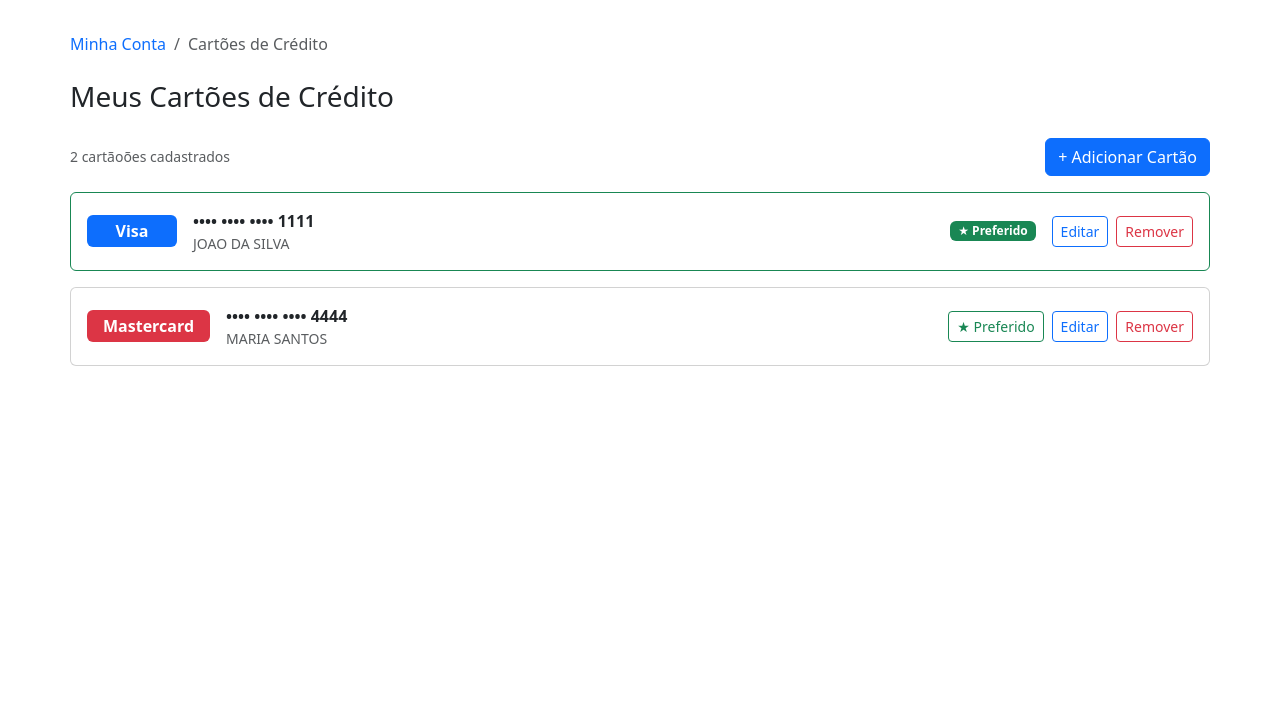
Test: CreditCardsPage - RF0027: Cadastro de cartões de crédito › should require card number (RN0024)
Click the button with test id "credit-card-add-btn" at [1128, 157], box [1045,138,1210,176]
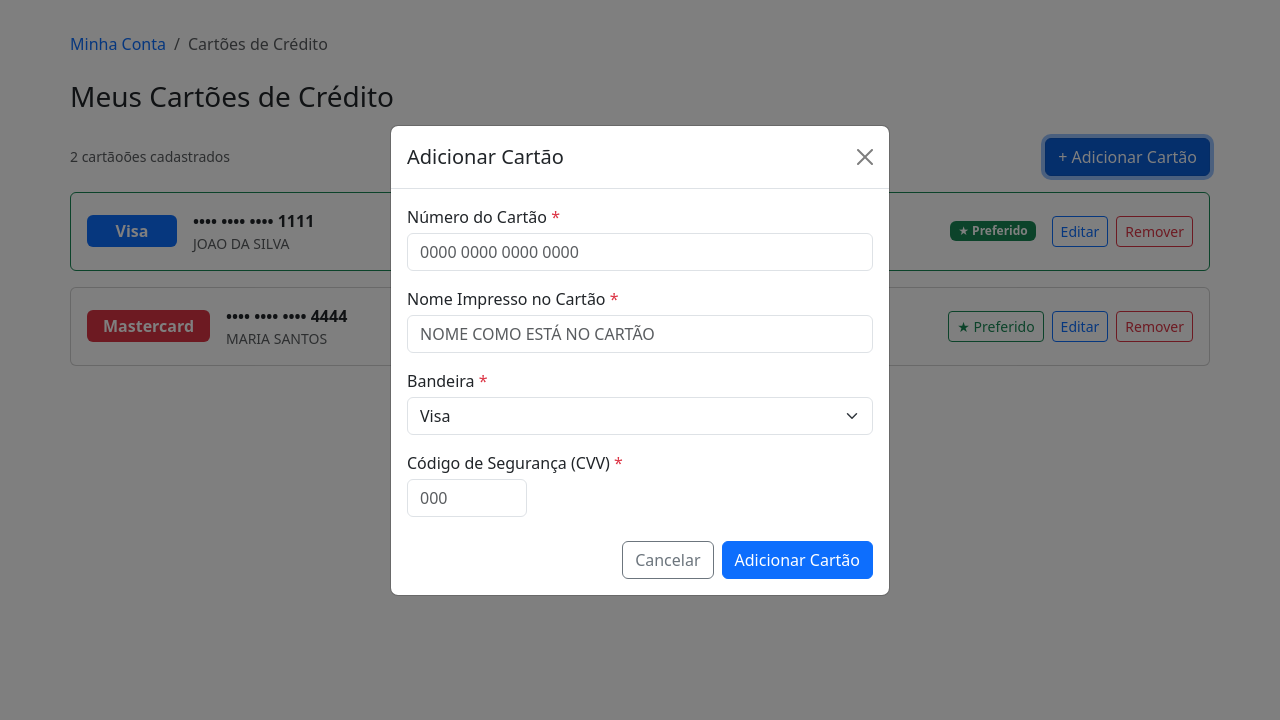
Check: the dialog with test id "credit-card-form-modal" is shown
Note: Leave card number empty
Type "JOAO SILVA" into the field with test id "credit-card-nome" at [640, 334], box [407,314,873,352]
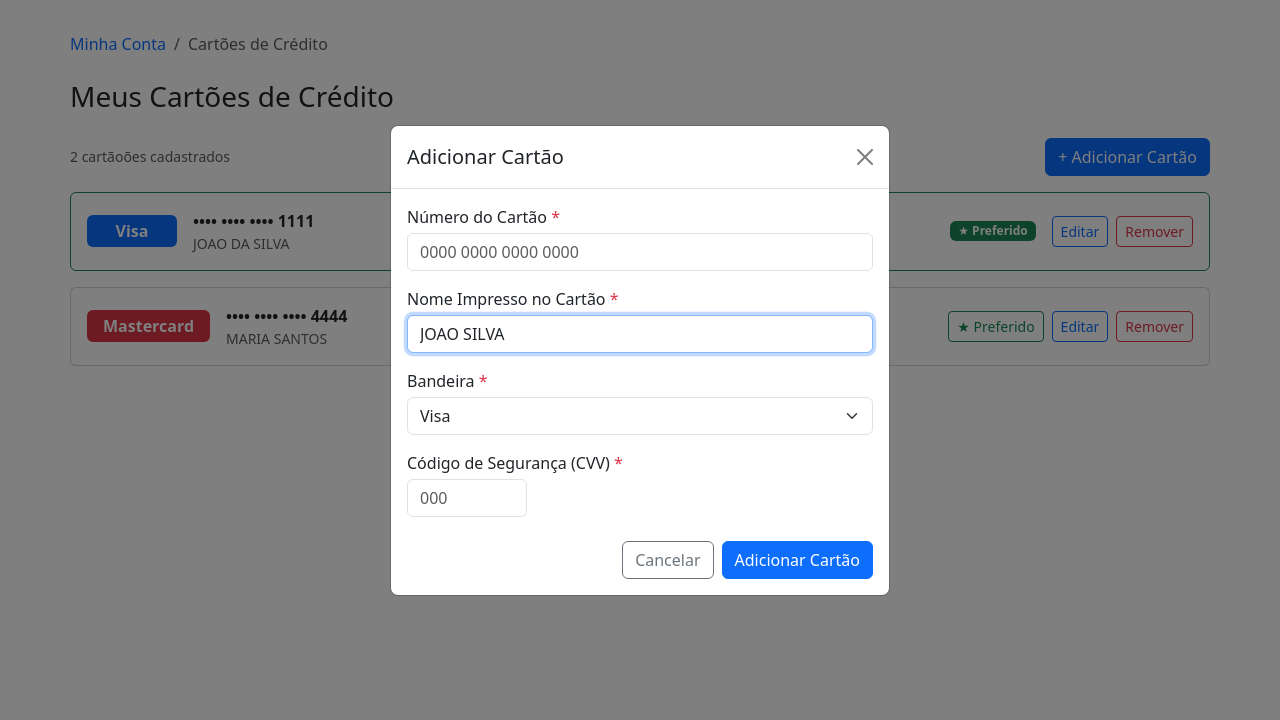
Type "123" into the field with test id "credit-card-cvv" at [467, 498], box [407,478,527,516]
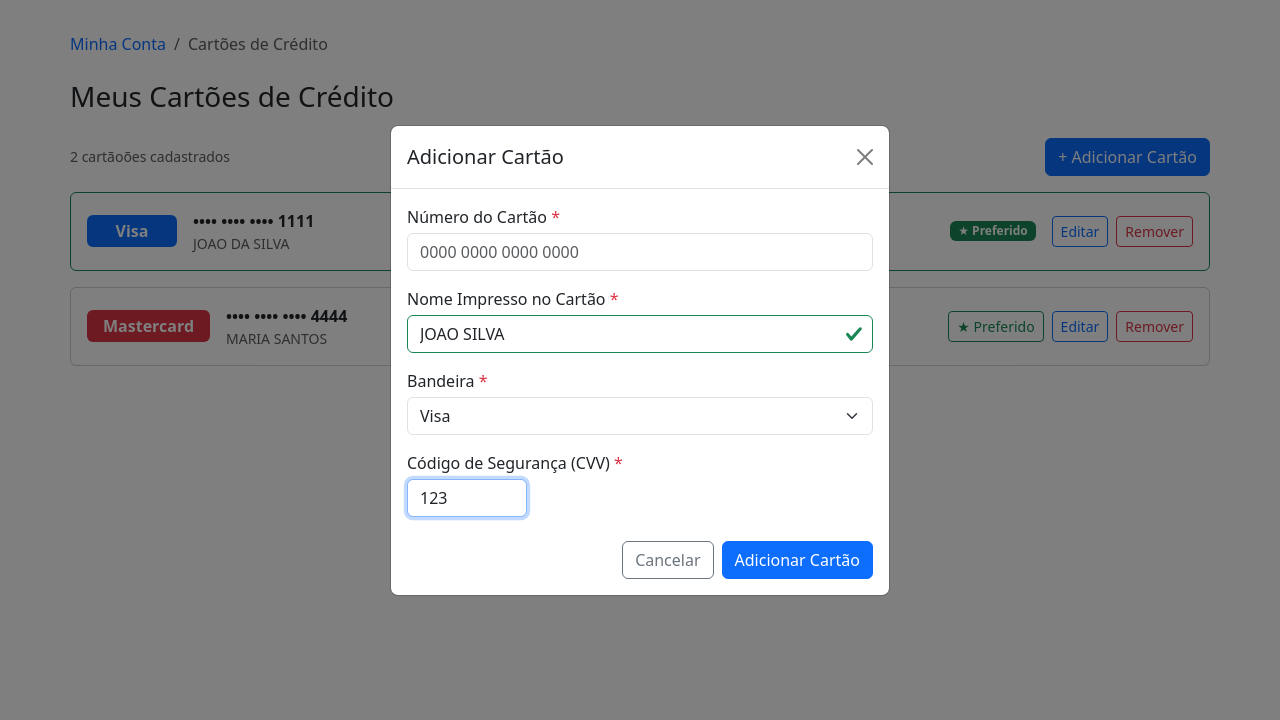
Click the button with test id "credit-card-form-submit" at [797, 560], box [722,540,873,578]
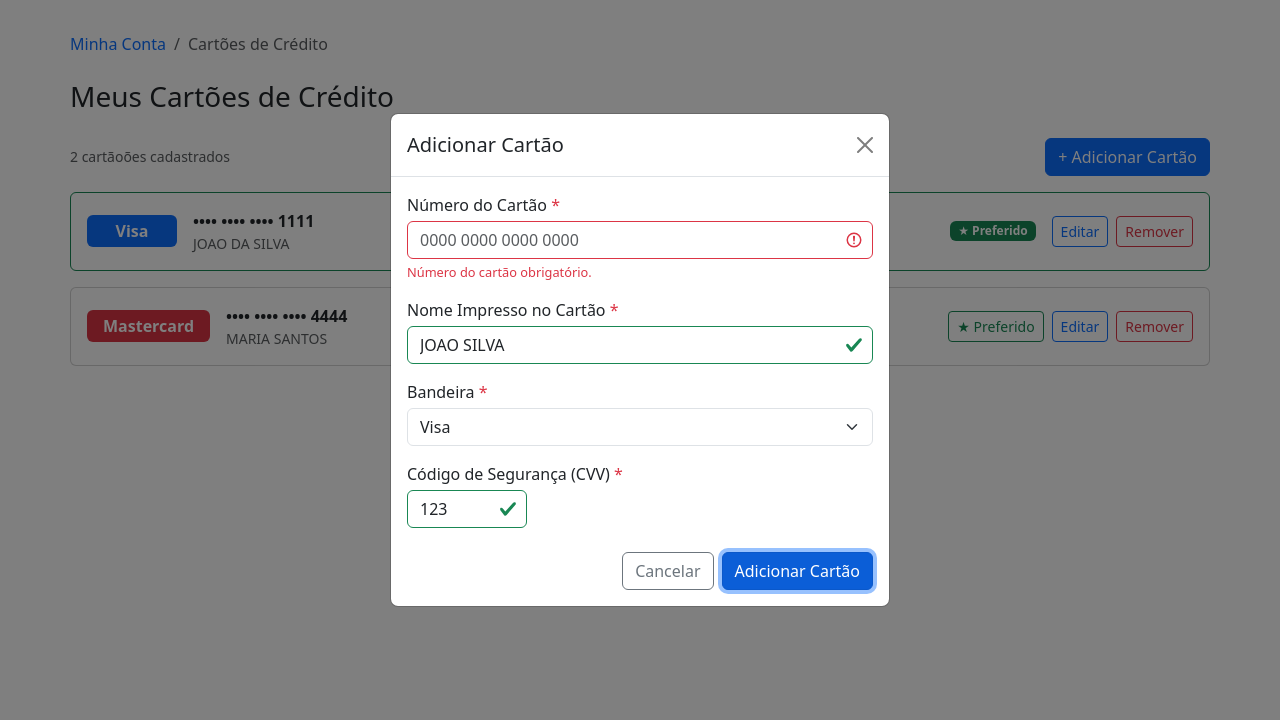
Check: the text with test id "credit-card-numero-error" shows "Número do cartão obrigatório", box [407,263,592,281]
